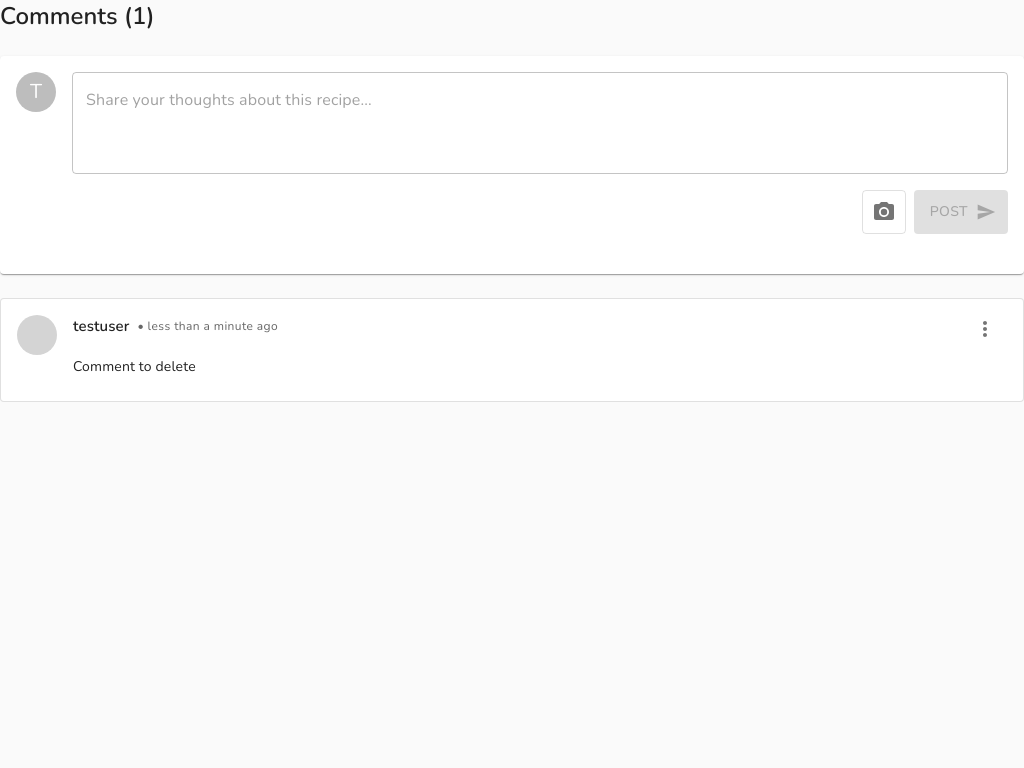
Test: CommentsSection Component › Edit and Delete Comments › should handle delete comment exception - lines 226-228
This screenshot has width=1024, height=768.
Expected: the text "Comment to delete" is shown, [73,357,196,376]
Click the button without text in the row of "less than a minute ago".
click(985, 329)  # box [963,307,1007,351]
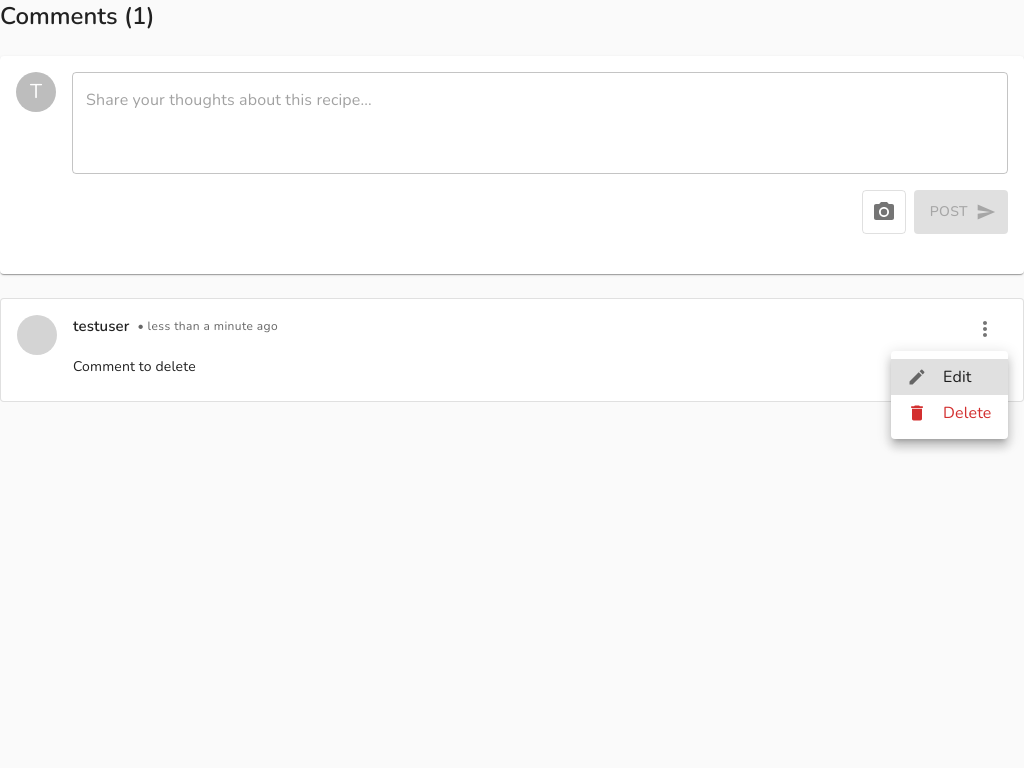
Click the menu item "Delete".
click(949, 413)  # box [907,402,992,424]
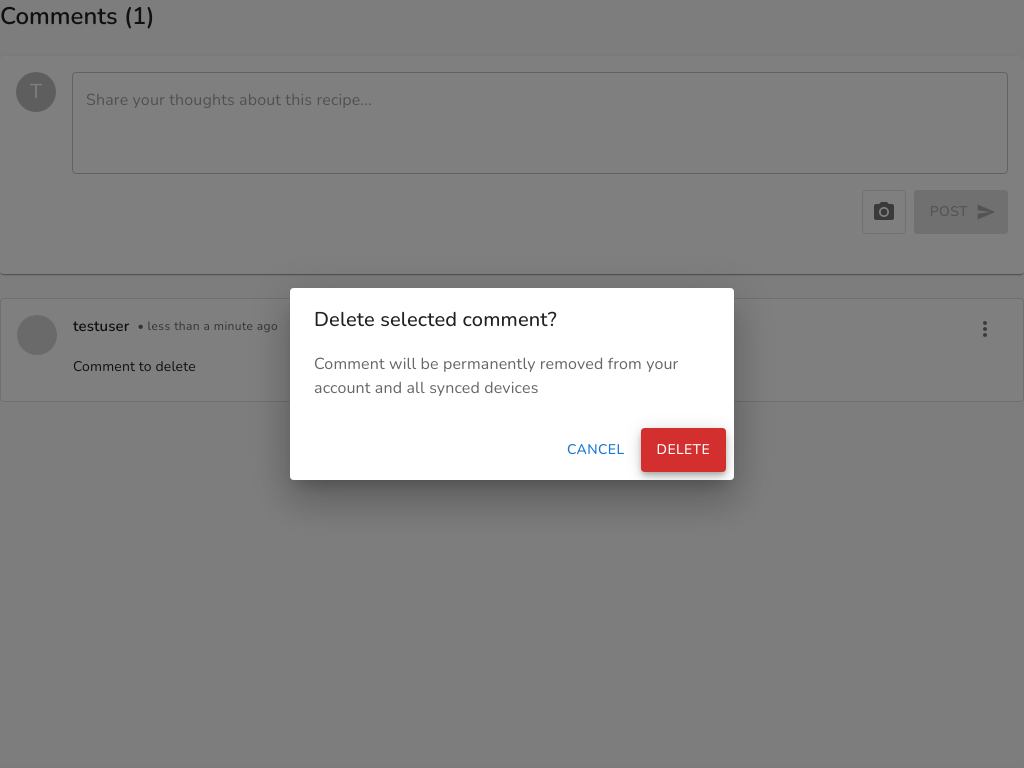
Expected: the heading "Delete selected comment?" is shown, [314,306,557,333]
Click the button "Delete".
click(683, 450)  # box [640,428,726,472]
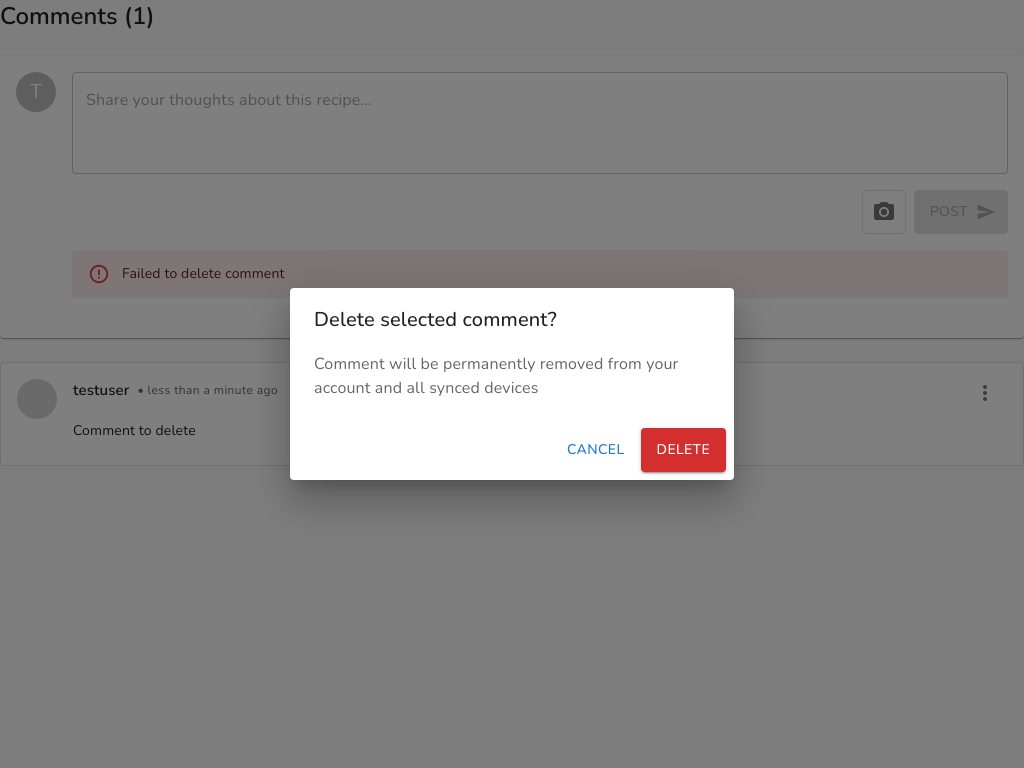
Expected: the text "Failed to delete comment" is shown, [122,264,285,283]
